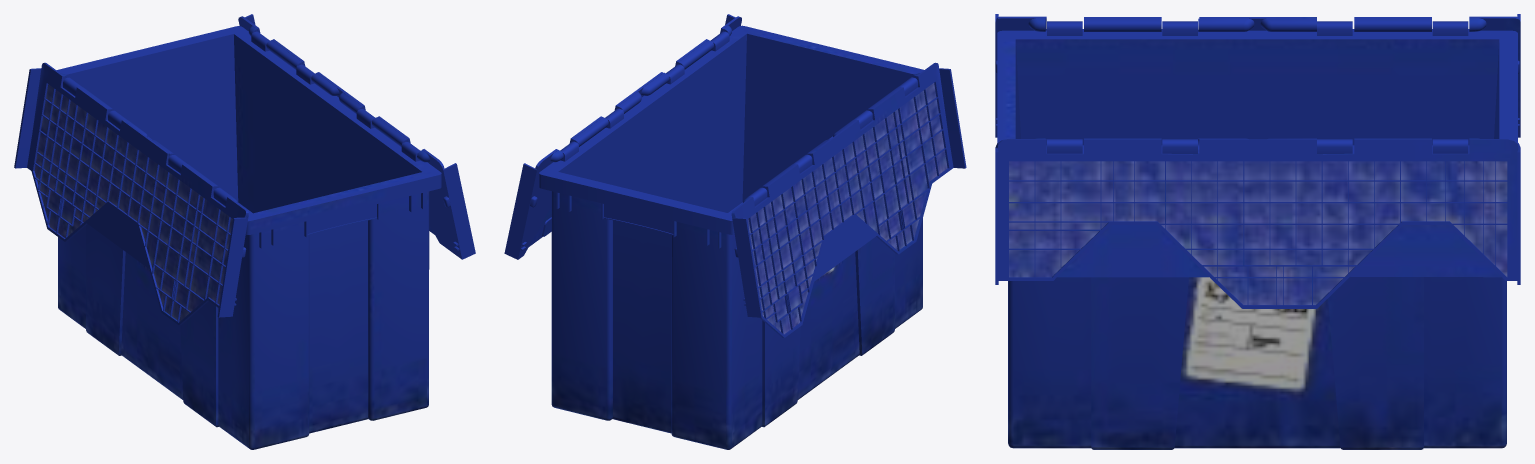
File: industrial_pastic_container.glb
The picture shows the model from 3 angles, left to right: view 1: azimuth 30°, elevation 25°; view 2: azimuth 150°, elevation 25°; view 3: azimuth 270°, elevation 25°; orthographic projection. The views are drawn at different scales.
Visible parts, largest first — view 1: industrial_pastic_container, industrial_pastic_container_lid_b, industrial_pastic_container_lid_a; view 2: industrial_pastic_container, industrial_pastic_container_lid_b, industrial_pastic_container_lid_a; view 3: industrial_pastic_container, industrial_pastic_container_lid_a, industrial_pastic_container_lid_b.
Boxes of the visible parts, <box> form: industrial_pastic_container: <box>56,26,441,449</box>; industrial_pastic_container_lid_b: <box>14,62,248,325</box>; industrial_pastic_container_lid_a: <box>238,14,475,259</box>; industrial_pastic_container: <box>539,25,923,449</box>; industrial_pastic_container_lid_b: <box>731,62,966,337</box>; industrial_pastic_container_lid_a: <box>504,14,741,259</box>; industrial_pastic_container: <box>997,21,1517,449</box>; industrial_pastic_container_lid_a: <box>995,138,1520,308</box>; industrial_pastic_container_lid_b: <box>995,14,1520,137</box>.
Size of the model in its own units: 0.4572 by 0.4188 by 0.6315.
Materials: 1 (1 with a texture image).
